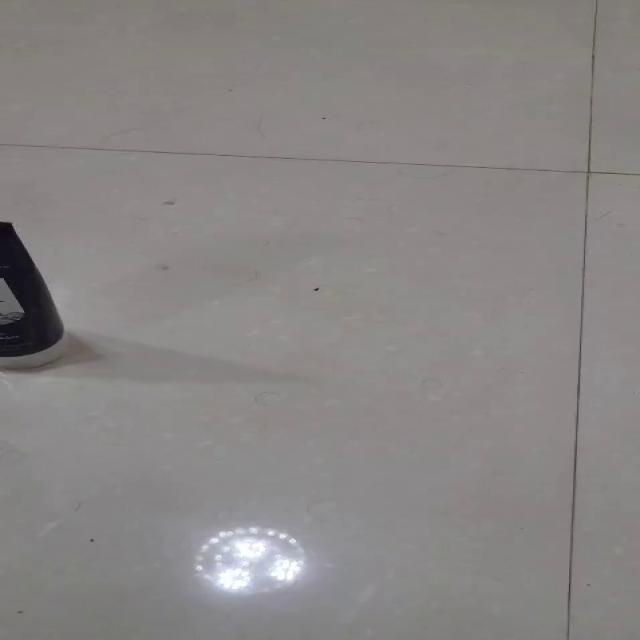plastic: (0, 221, 70, 369)
